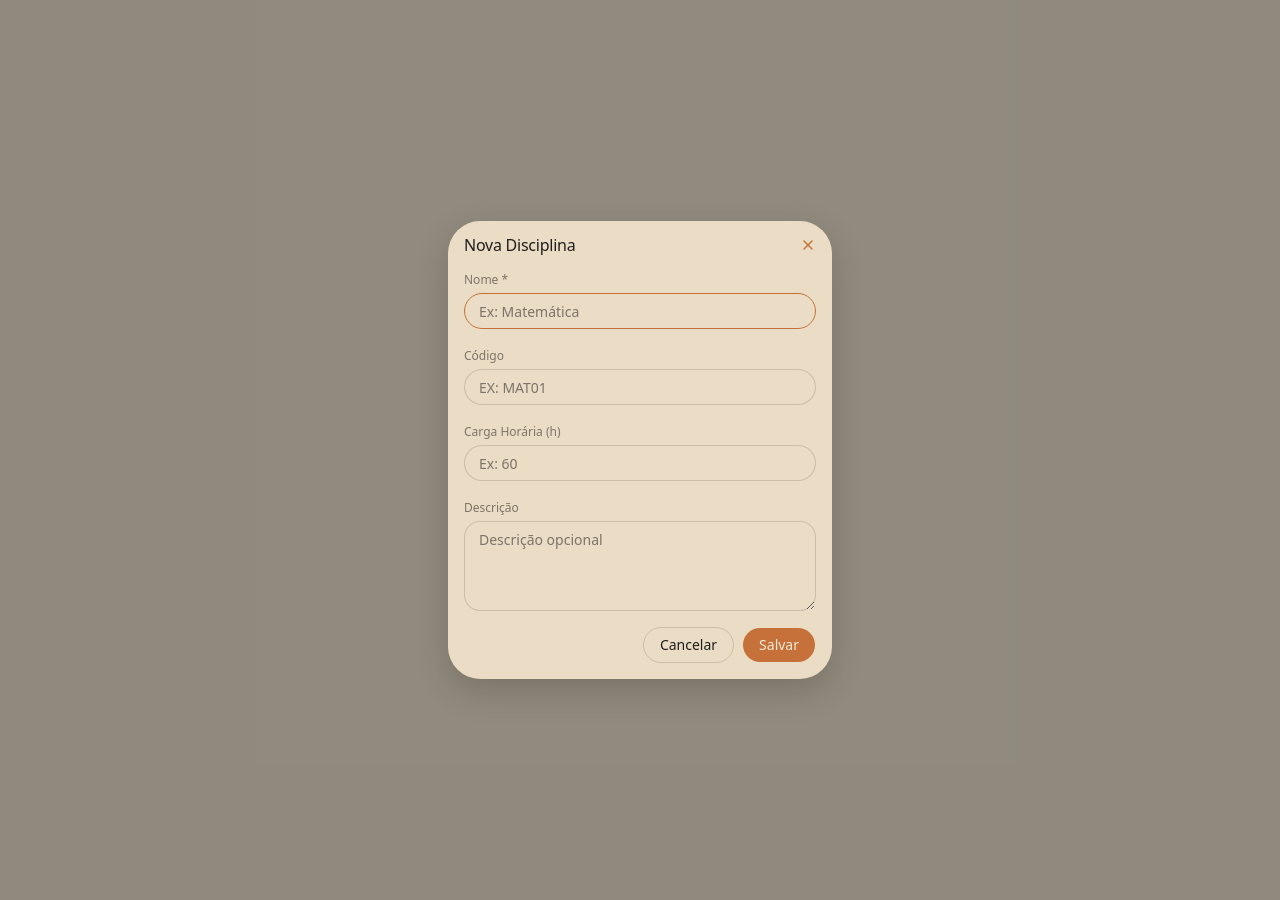
Test: SubjectFormDialog › shows validation error for empty name on submit
Click the button "Salvar".
click(779, 645)  # box [742,627,816,663]
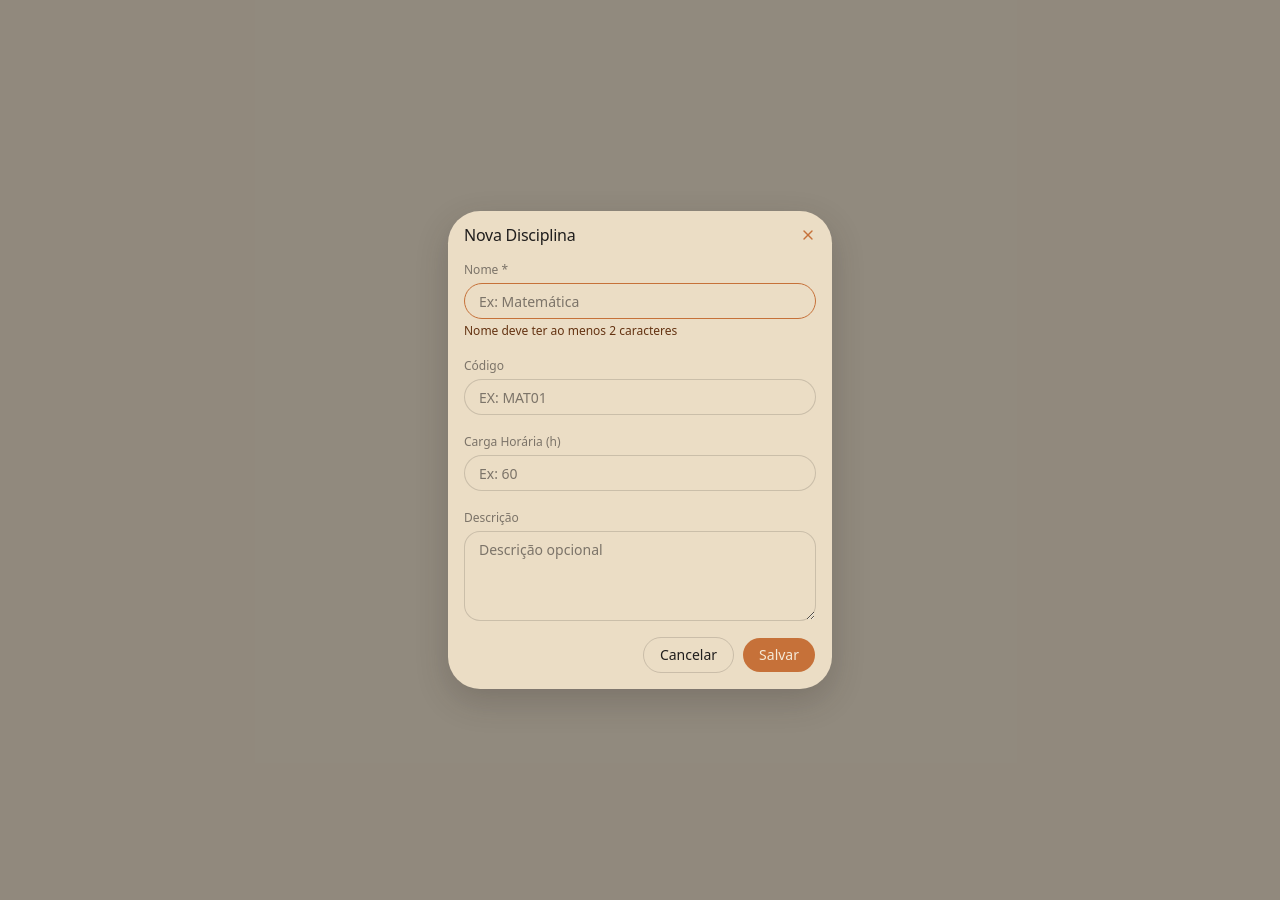
expect the text "Nome deve ter ao menos 2 caracteres" is shown: met, box [464,322,677,339]
